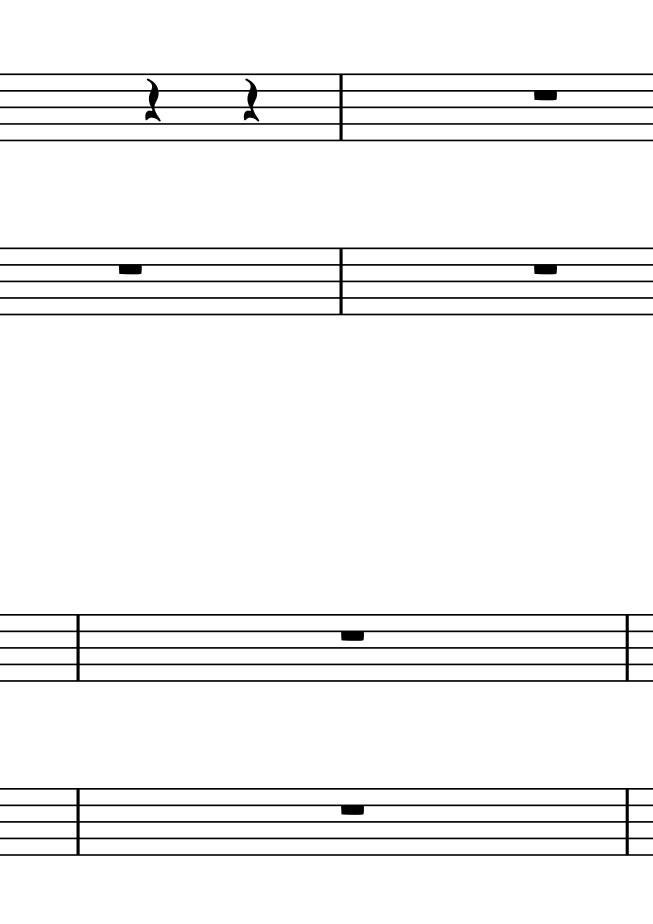Rests1: (336, 624, 369, 646), (114, 260, 145, 282), (338, 799, 369, 820), (529, 84, 561, 104), (531, 259, 563, 279)
Rests4: (239, 75, 263, 129), (142, 77, 164, 129)
Single_barline: (327, 73, 353, 142), (616, 615, 639, 681), (615, 788, 638, 854), (66, 615, 89, 680), (67, 788, 88, 854), (330, 248, 351, 313)
